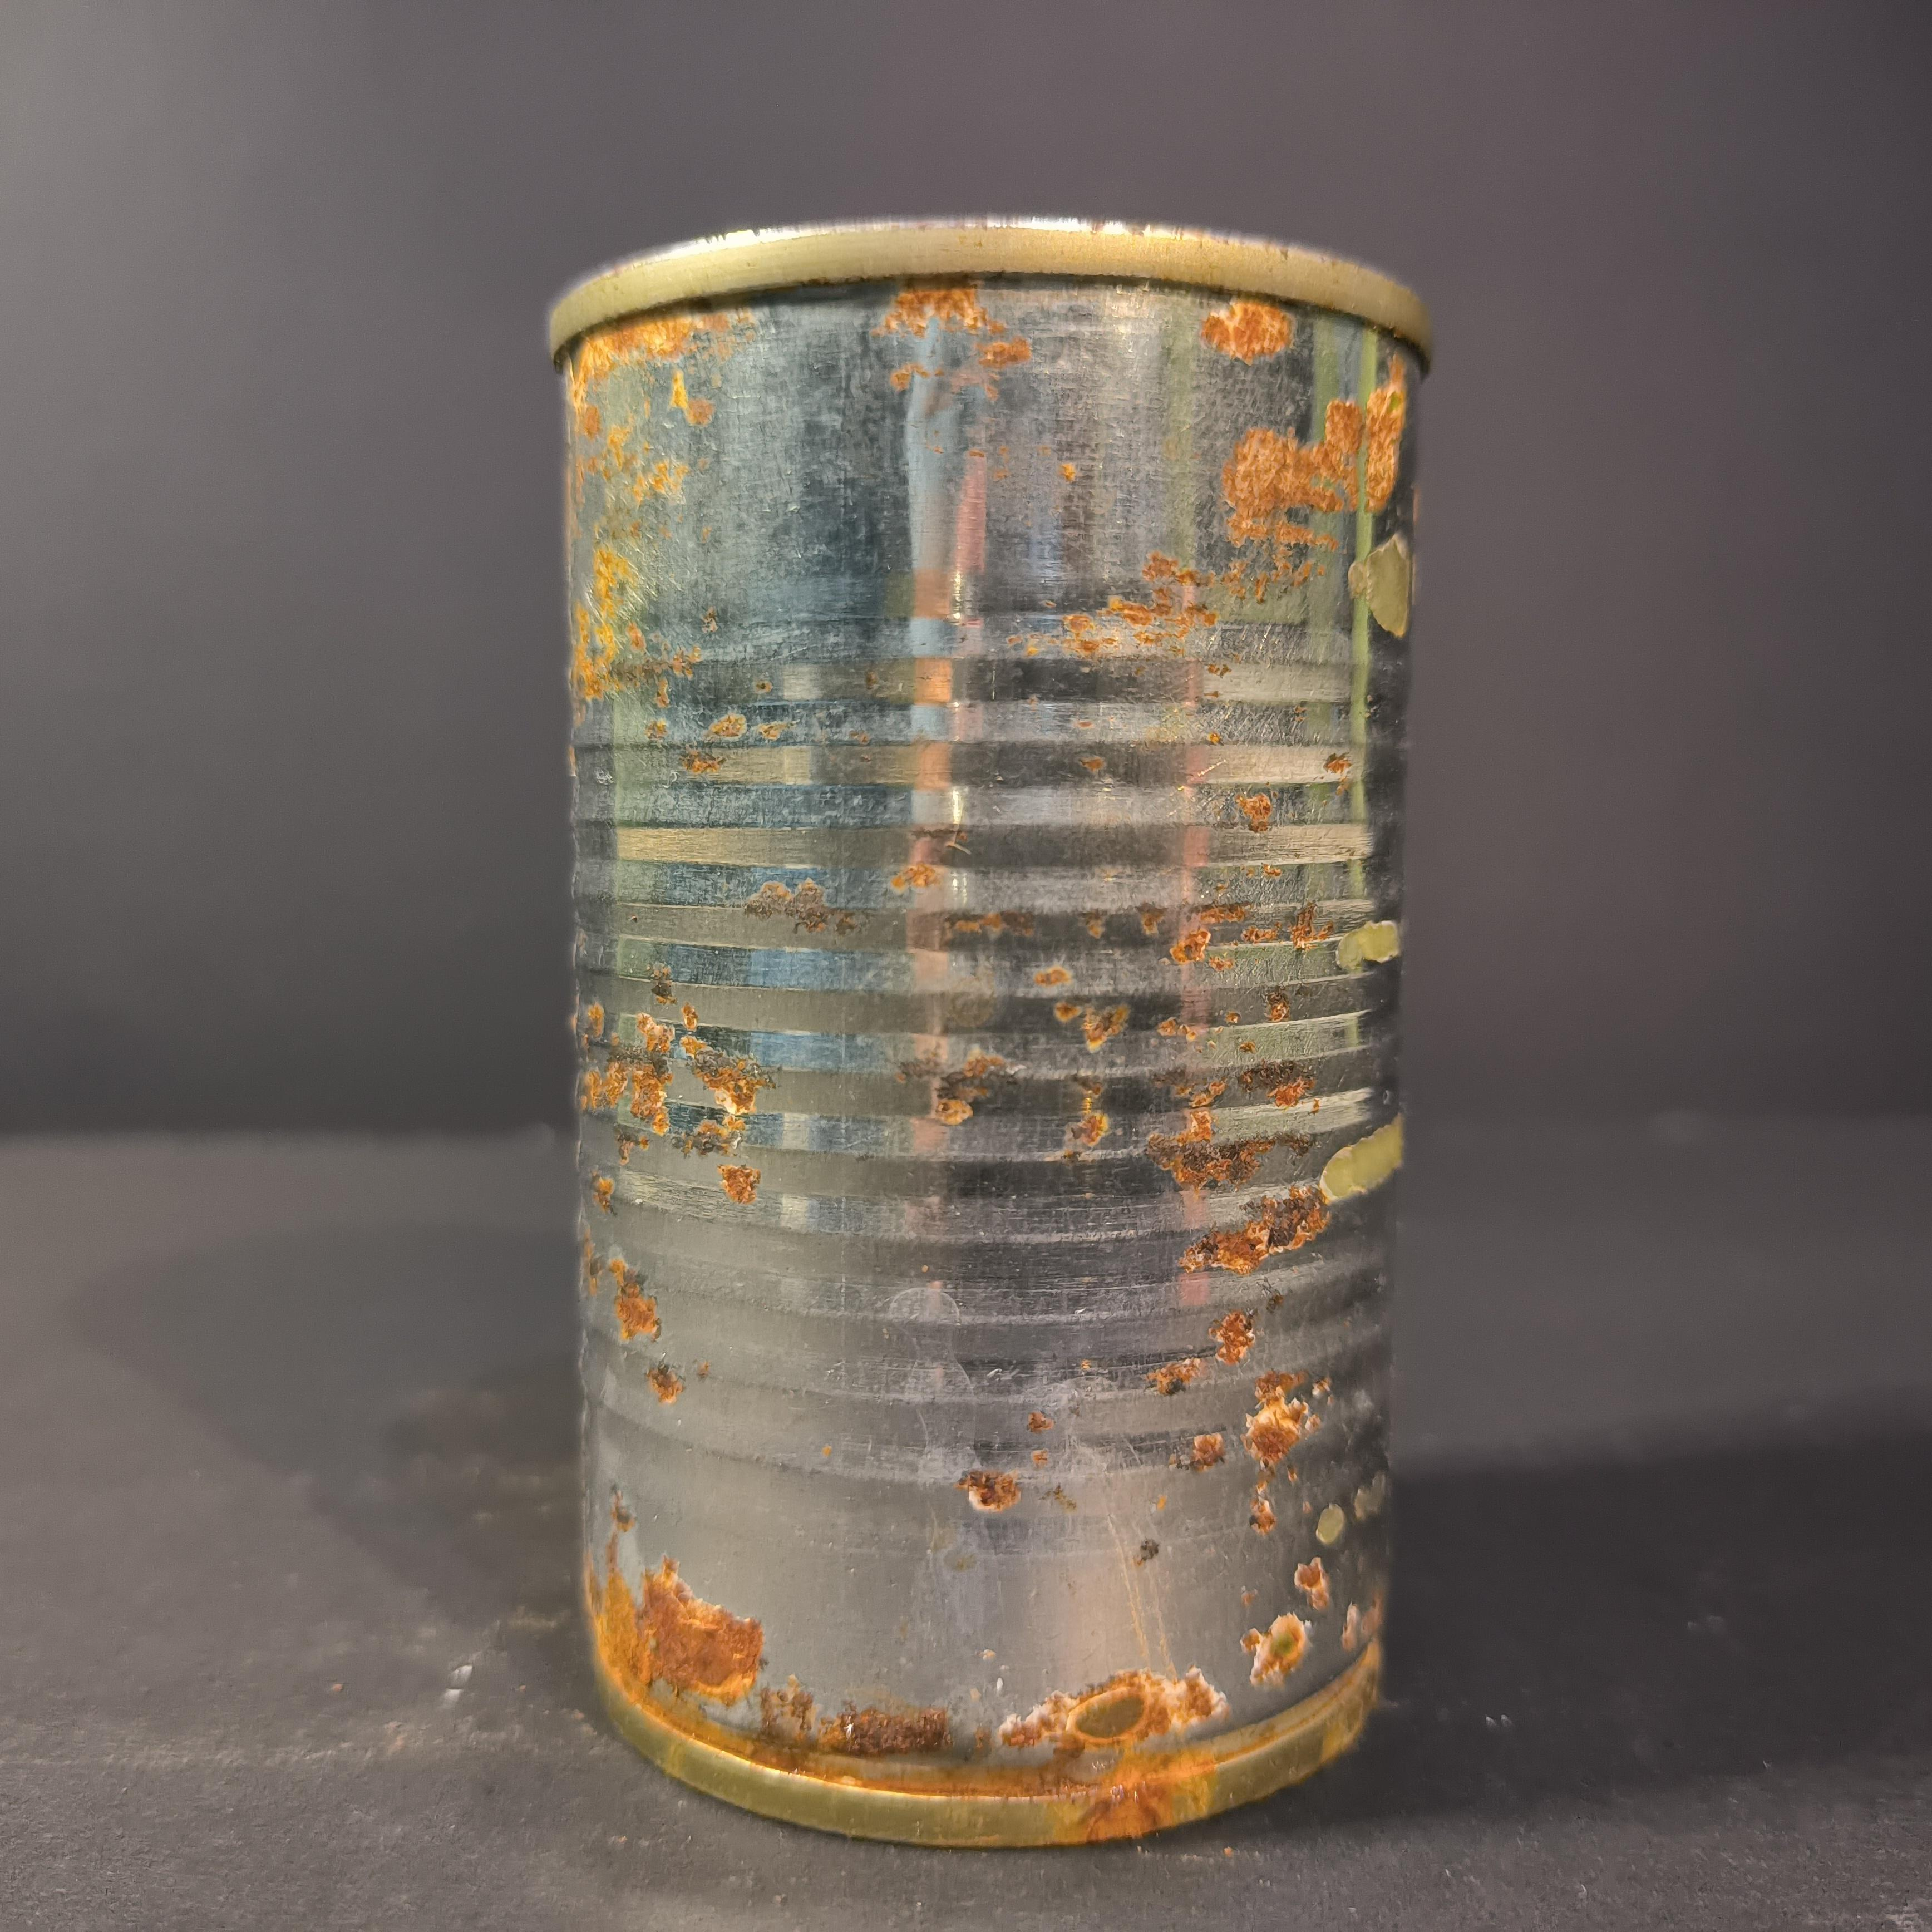Rusted: (540, 200, 1449, 1861)
